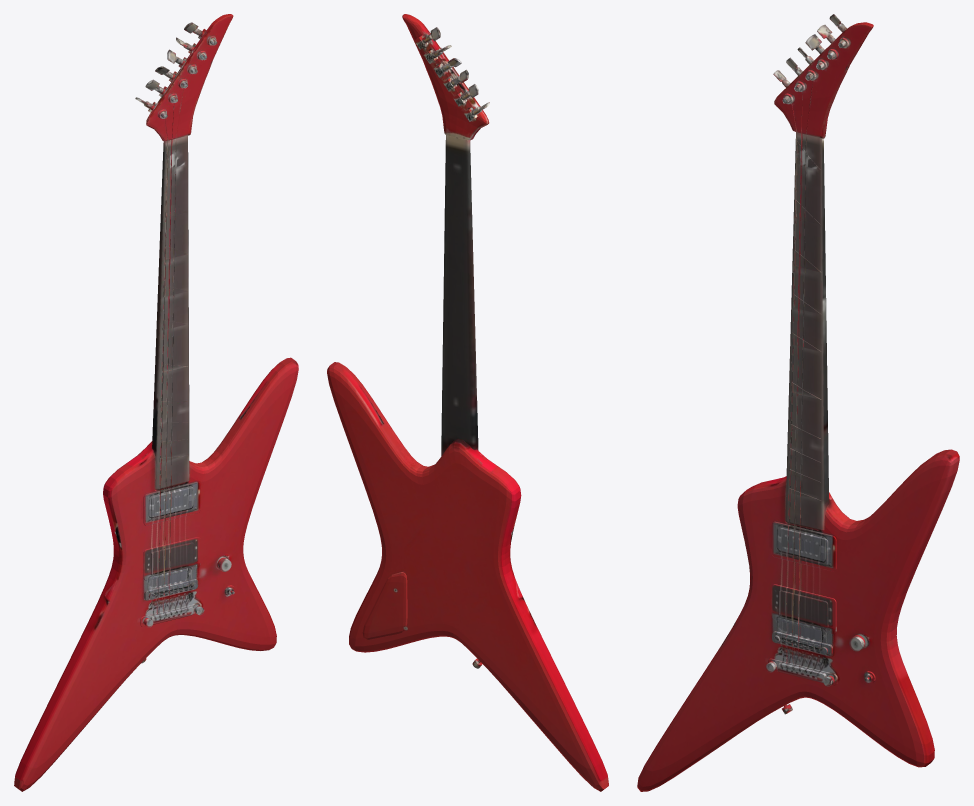
Rendered from guitar_v221.glb.
The picture shows the model from 3 angles, left to right: view 1: azimuth 30°, elevation 25°; view 2: azimuth 150°, elevation 25°; view 3: azimuth 330°, elevation 25°; orthographic projection. The views are drawn at different scales.
Visible parts, largest first — view 1: world; view 2: world; view 3: world.
Part boxes in pixels (x1=…): world: x1=14, y1=14, x2=298, y2=791; world: x1=327, y1=14, x2=608, y2=791; world: x1=637, y1=14, x2=959, y2=791.
Size of the model in its own units: 0.8018 by 2 by 0.0826.
Materials: 1 (1 with a texture image).
